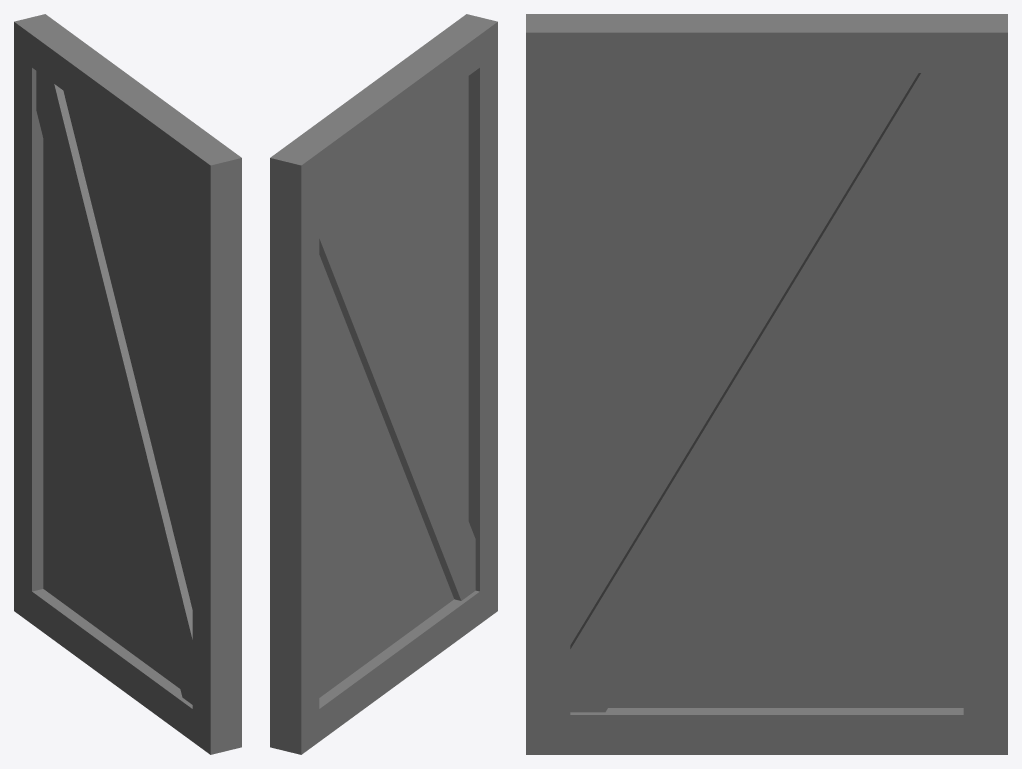
Rendered from builder_63.FBX.
The picture shows the model from 3 angles, left to right: view 1: azimuth 30°, elevation 25°; view 2: azimuth 150°, elevation 25°; view 3: azimuth 270°, elevation 25°; orthographic projection. The views are drawn at different scales.
Parts seen in each view (by area): view 1: builder_63; view 2: builder_63; view 3: builder_63.
Part boxes in pixels (<box>): builder_63: <box>14,14,241,754</box>; builder_63: <box>270,14,497,754</box>; builder_63: <box>526,14,1007,754</box>.
Bounding box in the file's own units: 3.22 × 57.73 × 34.9.
